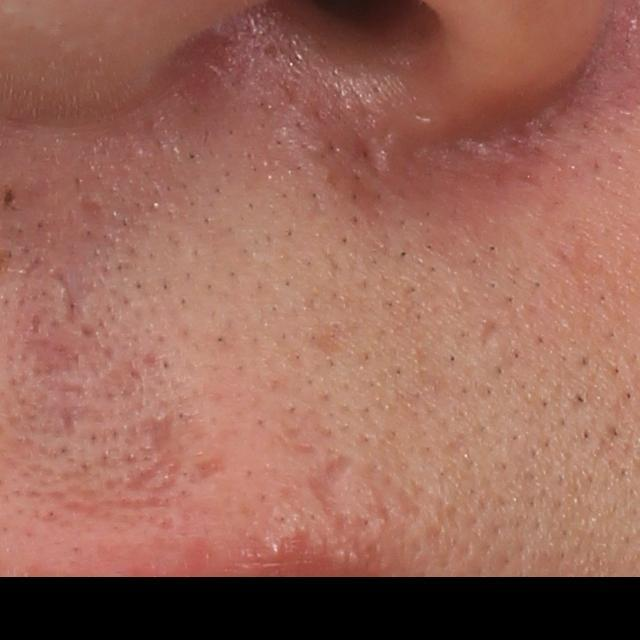atrophic_scar: (31, 323, 88, 376), (348, 130, 389, 179), (52, 268, 87, 317), (79, 194, 108, 224), (479, 319, 505, 350), (61, 406, 79, 435)
nevus: (3, 185, 16, 210)
